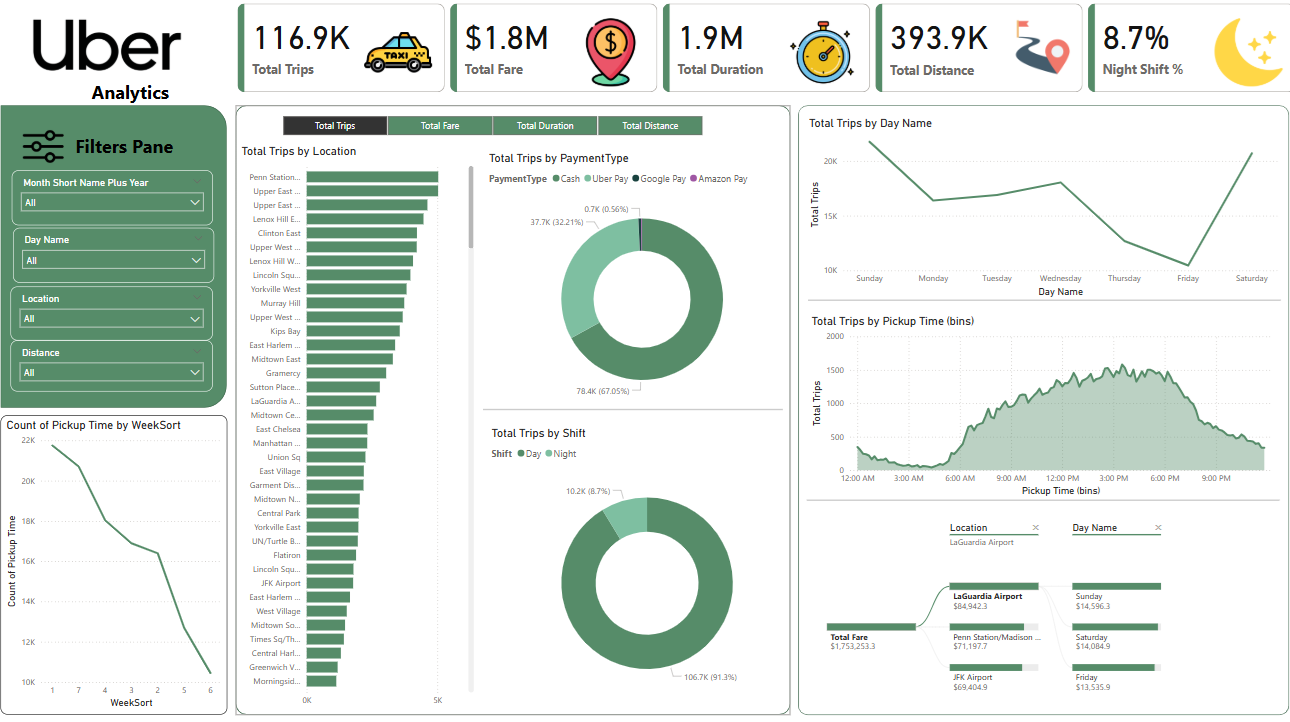

What the dashboard file says about the page in this screenshot:
{"tool":"powerbi","page":{"name":"Page 1","canvas":[1920,1080],"ordinal":0},"visuals":[{"type":"shape","box":[719.9,581.6,439.6,71.4],"z":0},{"type":"shape","box":[356.2,171,814.2,894.2],"z":1000},{"type":"shape","box":[11,170.6,332,443.9],"z":2000},{"type":"image","box":[49.7,20.3,232.6,125.1],"z":3000},{"type":"textbox","box":[139.1,128.7,169.4,56.5],"z":4000},{"type":"image","box":[28.9,196.5,88,70],"z":5000},{"type":"textbox","box":[114.7,206.4,169.4,56.5],"z":6000},{"type":"slicer","fields":{"Values":["DateTable.Month Short Name Plus Year"]},"box":[27.5,266,295.3,80.7],"z":7000},{"type":"slicer","fields":{"Values":["DateTable.Day Name"]},"box":[29.3,350.3,295.3,80.7],"z":8000},{"type":"slicer","fields":{"Values":["Location Table.Location"]},"box":[25.7,436.6,297.1,78.9],"z":9000},{"type":"cardVisual","fields":{"Data":["Trip Details.Total Trips","Trip Details.Total Fare","Trip Details.Total Duration","Trip Details.Total Distance","Trip Details.Night Shift %"]},"box":[353.2,16.9,1566.8,140.9],"z":10000},{"type":"clusteredBarChart","fields":{"Y":["Trip Details.Total Trips"],"Category":["Location Table.Location"]},"box":[359.6,227.7,351.3,834.1],"z":11000},{"type":"slicer","fields":{"Values":["Toggel.Toggel"]},"box":[400.5,178.8,665,41.3],"z":12000},{"type":"donutChart","fields":{"Y":["Trip Details.Total Trips"],"Category":["Trip Details.PaymentType"]},"box":[722.5,239,460.3,385.1],"z":13000},{"type":"donutChart","fields":{"Y":["Trip Details.Total Trips"],"Category":["Trip Details.Shift"]},"box":[727,642.5,467.4,411.4],"z":14000},{"type":"shape","box":[1181.3,170.6,720.9,895.1],"z":15000},{"type":"lineChart","fields":{"Y":["Trip Details.Total Trips"],"Category":["DateTable.Day Name"]},"box":[1192.8,186.3,697.5,270],"z":16000},{"type":"areaChart","fields":{"Y":["Trip Details.Total Trips"],"Category":["Trip Details.Pickup Time (bins)"]},"box":[1195.9,476.9,697,273.3],"z":17000},{"type":"decompositionTreeVisual","fields":{"Analyze":["Trip Details.Total Fare"],"ExplainBy":["Location Table.Location","DateTable.Day Name"]},"box":[1194.8,764.8,695.5,270],"z":18000},{"type":"shape","box":[1195.9,421.9,693.3,69.7],"z":19000},{"type":"shape","box":[1194.1,715.4,693.3,69.7],"z":20000},{"type":"slicer","fields":{"Values":["Trip Details.Distance"]},"box":[25.7,515.4,297.1,75.2],"z":21000},{"type":"lineChart","fields":{"Category":["DateTable.WeekSort"],"Y":["CountNonNull(Trip Details.Pickup Time)"]},"box":[10.7,625.1,332.8,439.5],"z":21001}]}

Visuals, with their boxes in screenshot pixels (x1, y1, x2, y2), scaled from the page's 1920x1080 canvas onto the 1290x722 screenshot:
shape: region(484, 389, 779, 437)
shape: region(239, 114, 786, 712)
shape: region(7, 114, 230, 411)
image: region(33, 14, 190, 97)
textbox: region(93, 86, 207, 124)
image: region(19, 131, 79, 178)
textbox: region(77, 138, 191, 176)
slicer - DateTable.Month Short Name Plus Year: region(18, 178, 217, 232)
slicer - DateTable.Day Name: region(20, 234, 218, 288)
slicer - Location Table.Location: region(17, 292, 217, 345)
cardVisual - Trip Details.Total Trips x Trip Details.Total Fare: region(237, 11, 1289, 105)
clusteredBarChart - Trip Details.Total Trips x Location Table.Location: region(242, 152, 478, 710)
slicer - Toggel.Toggel: region(269, 120, 716, 147)
donutChart - Trip Details.Total Trips x Trip Details.PaymentType: region(485, 160, 795, 417)
donutChart - Trip Details.Total Trips x Trip Details.Shift: region(488, 430, 802, 705)
shape: region(794, 114, 1278, 712)
lineChart - Trip Details.Total Trips x DateTable.Day Name: region(801, 125, 1270, 305)
areaChart - Trip Details.Total Trips x Trip Details.Pickup Time (bins): region(803, 319, 1272, 502)
decompositionTreeVisual - Trip Details.Total Fare x Location Table.Location: region(803, 511, 1270, 692)
shape: region(803, 282, 1269, 329)
shape: region(802, 478, 1268, 525)
slicer - Trip Details.Distance: region(17, 345, 217, 395)
lineChart - DateTable.WeekSort x CountNonNull(Trip Details.Pickup Time): region(7, 418, 231, 712)
